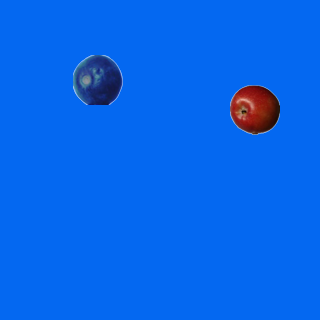Apple Braeburn: (229, 84, 279, 134)
Huckleberry: (72, 54, 122, 104)
